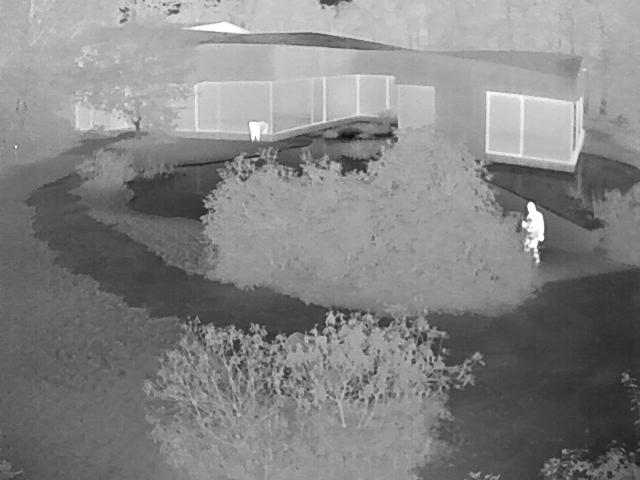person: (521, 201, 545, 265), (250, 119, 263, 143)
